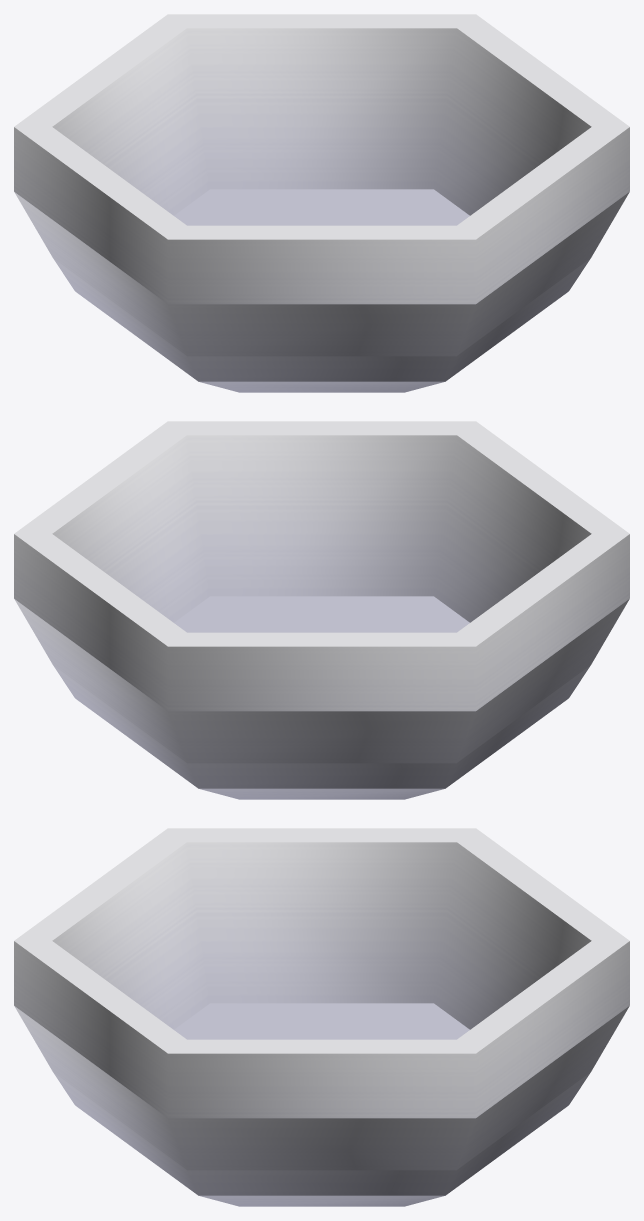
The model's file is bowl.obj.
The picture shows the model from 3 angles, top to bottom: view 1: azimuth 30°, elevation 25°; view 2: azimuth 150°, elevation 25°; view 3: azimuth 270°, elevation 25°; orthographic projection.
Parts seen in each view (by area): view 1: bowl; view 2: bowl; view 3: bowl.
Boxes of the visible parts, <box> form: bowl: <box>14,14,629,392</box>; bowl: <box>14,421,629,799</box>; bowl: <box>14,828,629,1206</box>.
Bounding box in the file's own units: 0.5022 × 0.2138 × 0.5798.
Materials: 1 (1 with a texture image).
